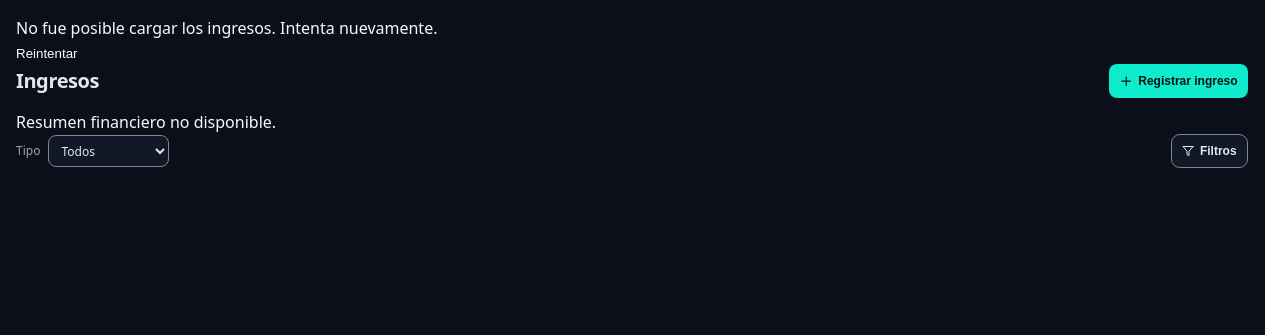
Test: IncomesPage › offers retry after a failed load instead of displaying an empty result
The image size is (1265, 335).
Check: the message "No fue posible cargar los ingresos. Intenta nuevamente. Reintentar" is shown, box [16,17,438,61]
Click the button "Reintentar". click: (47, 54)
box: [16,46,78,61]
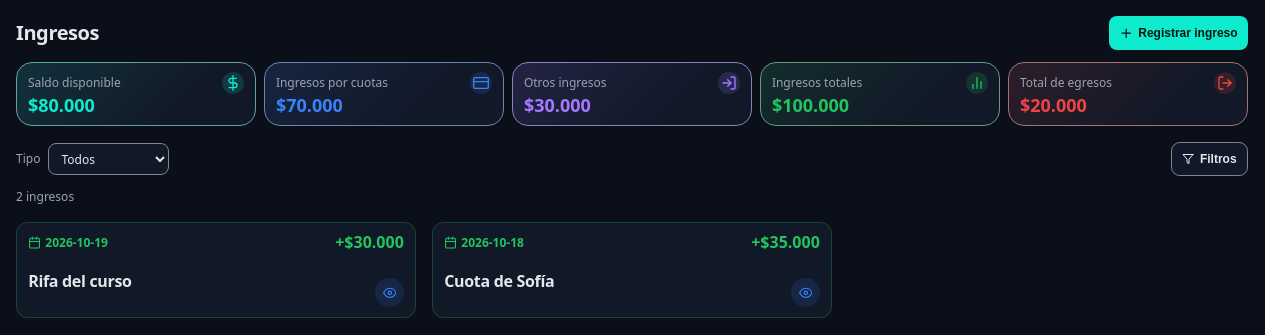
Check: the heading "Rifa del curso" is shown, box [28,270,132,292]
Check: the message "No fue posible cargar los ingresos. Intenta nuevamente. Reintentar" is gone
